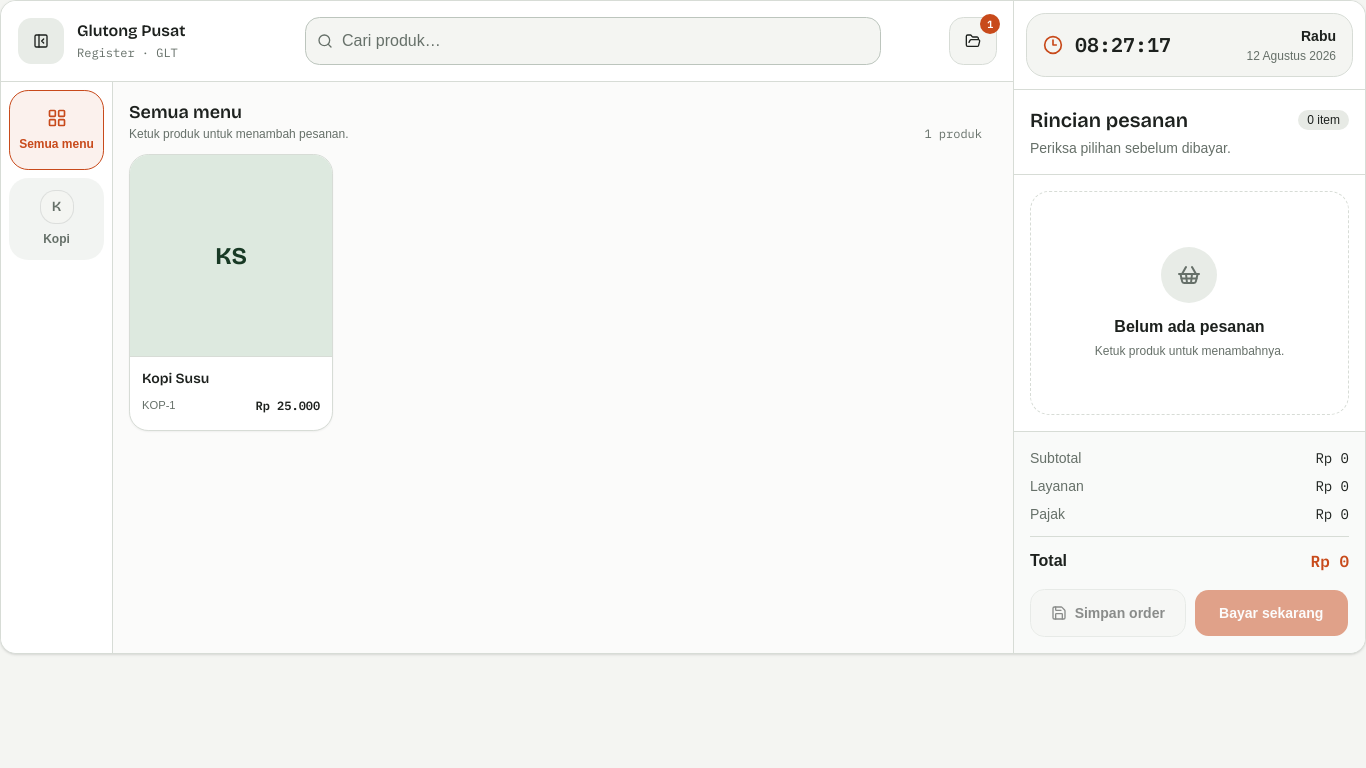
POS register layout › checks out a resumed dine-in order with its stored table
Click the button named "Buka pesanan tersimpan".
click(973, 41)  # box x1=949 y1=17 x2=997 y2=65
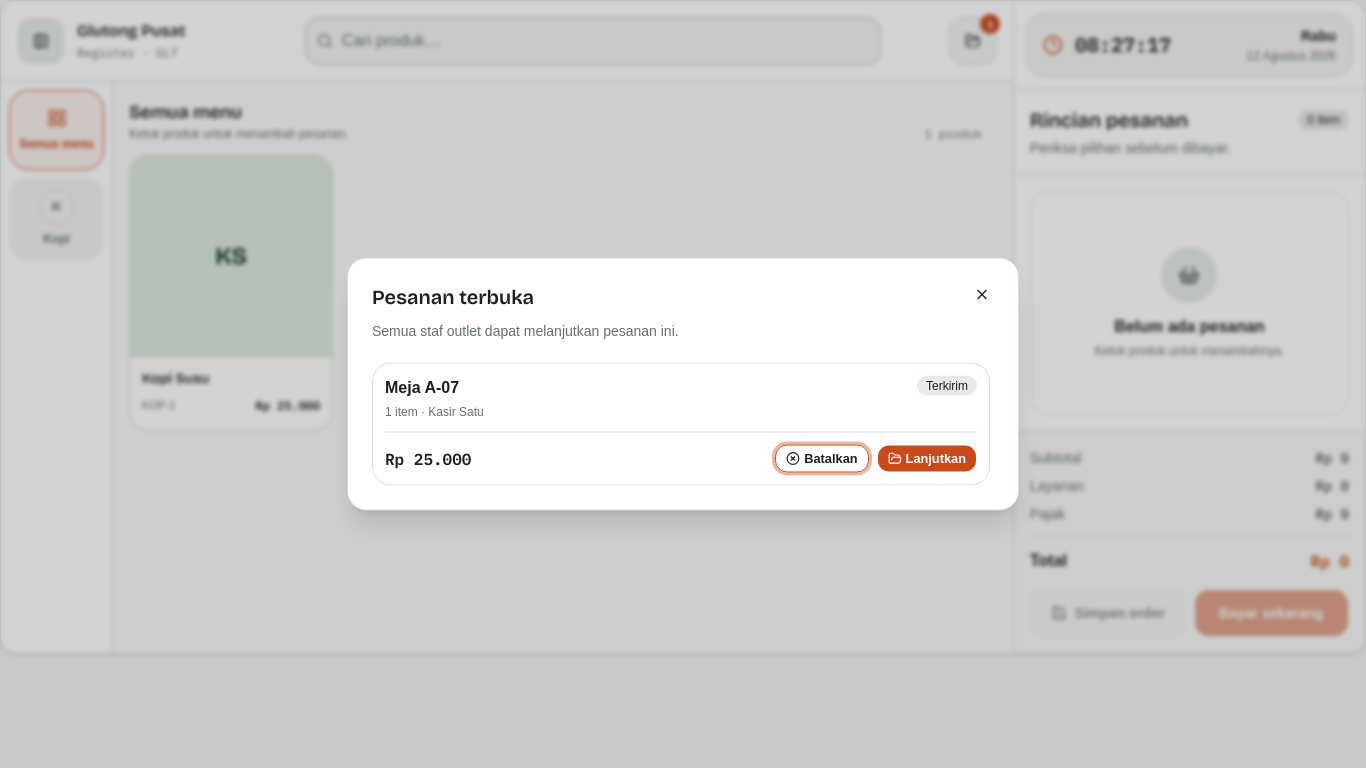
Click the button "Lanjutkan".
click(927, 458)  # box x1=877 y1=444 x2=977 y2=472
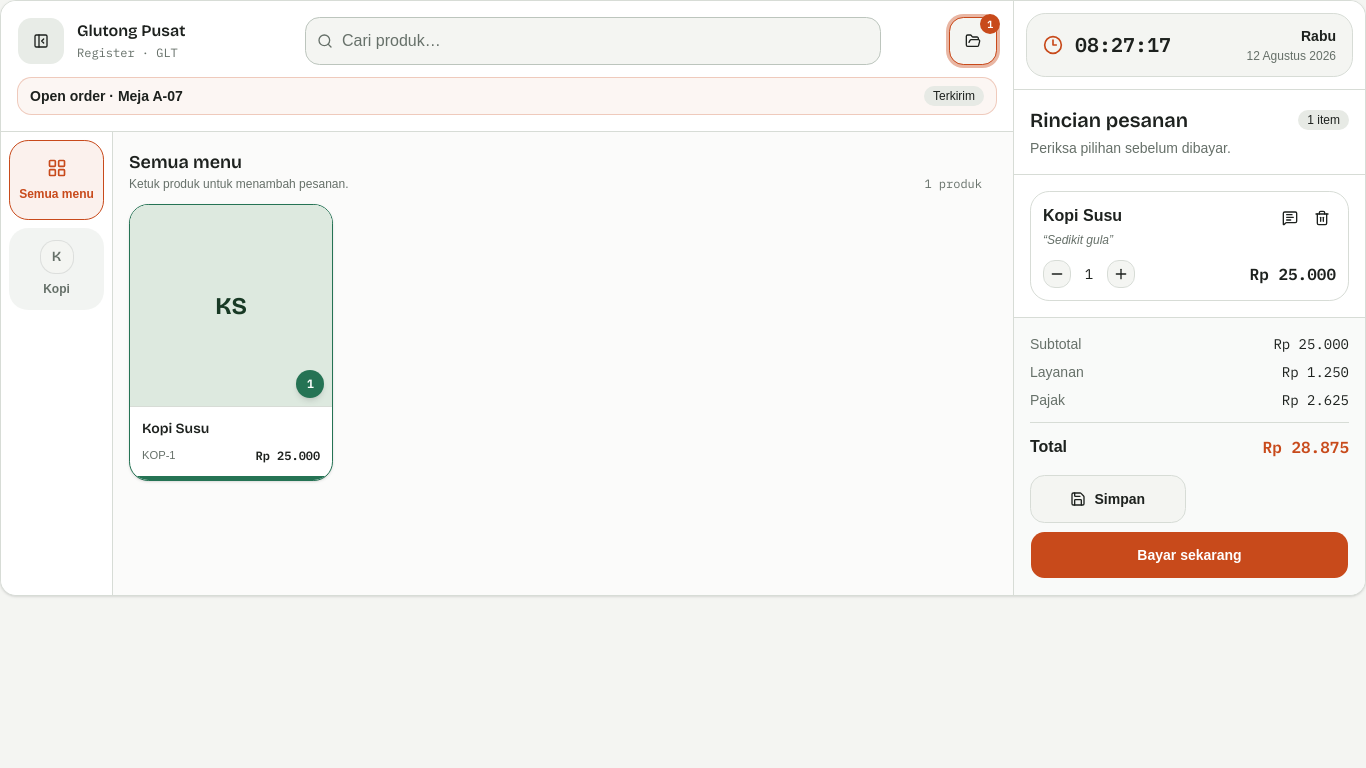
Click the button "Bayar sekarang".
click(1190, 555)  # box x1=1030 y1=531 x2=1349 y2=579
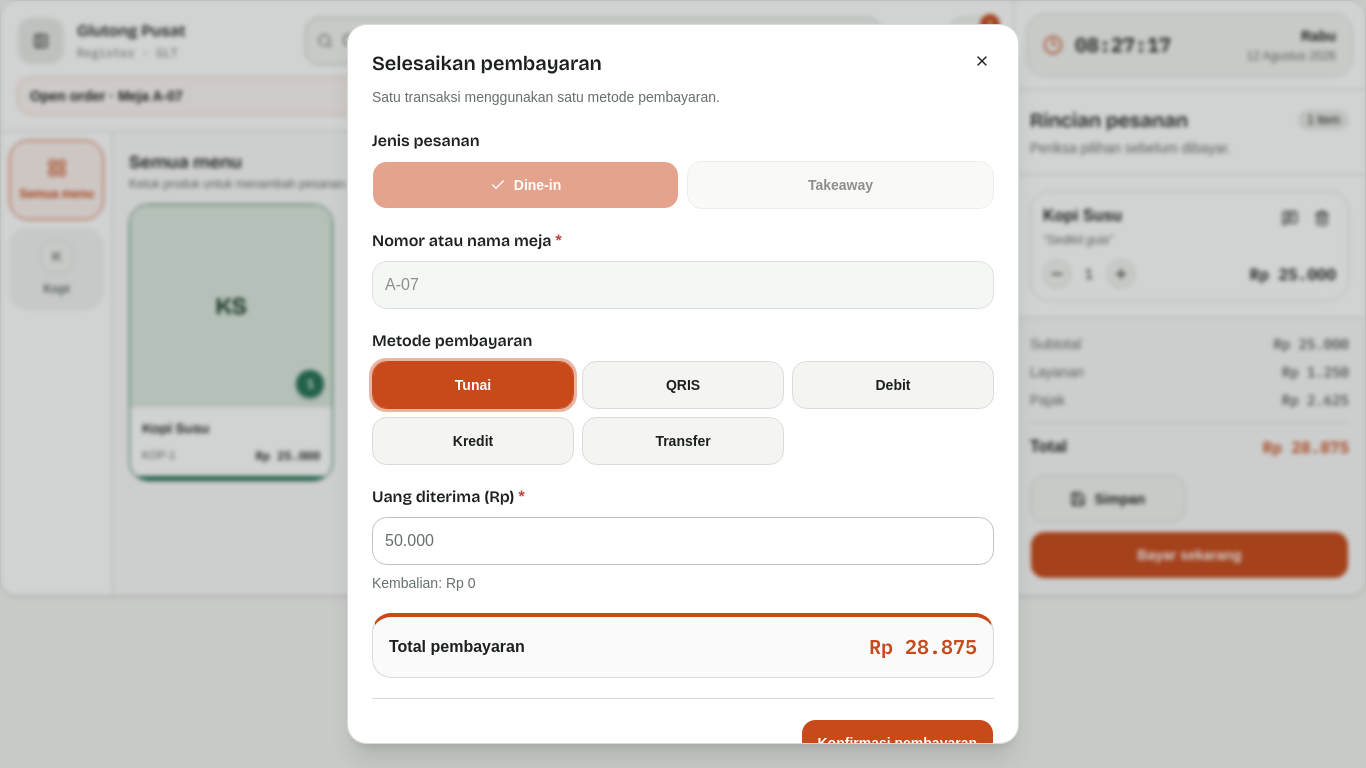
Now the field labelled "Nomor atau nama meja *" holds "A-07", box x1=372 y1=261 x2=994 y2=309
Click the button "QRIS".
click(683, 385)  # box x1=582 y1=361 x2=784 y2=409
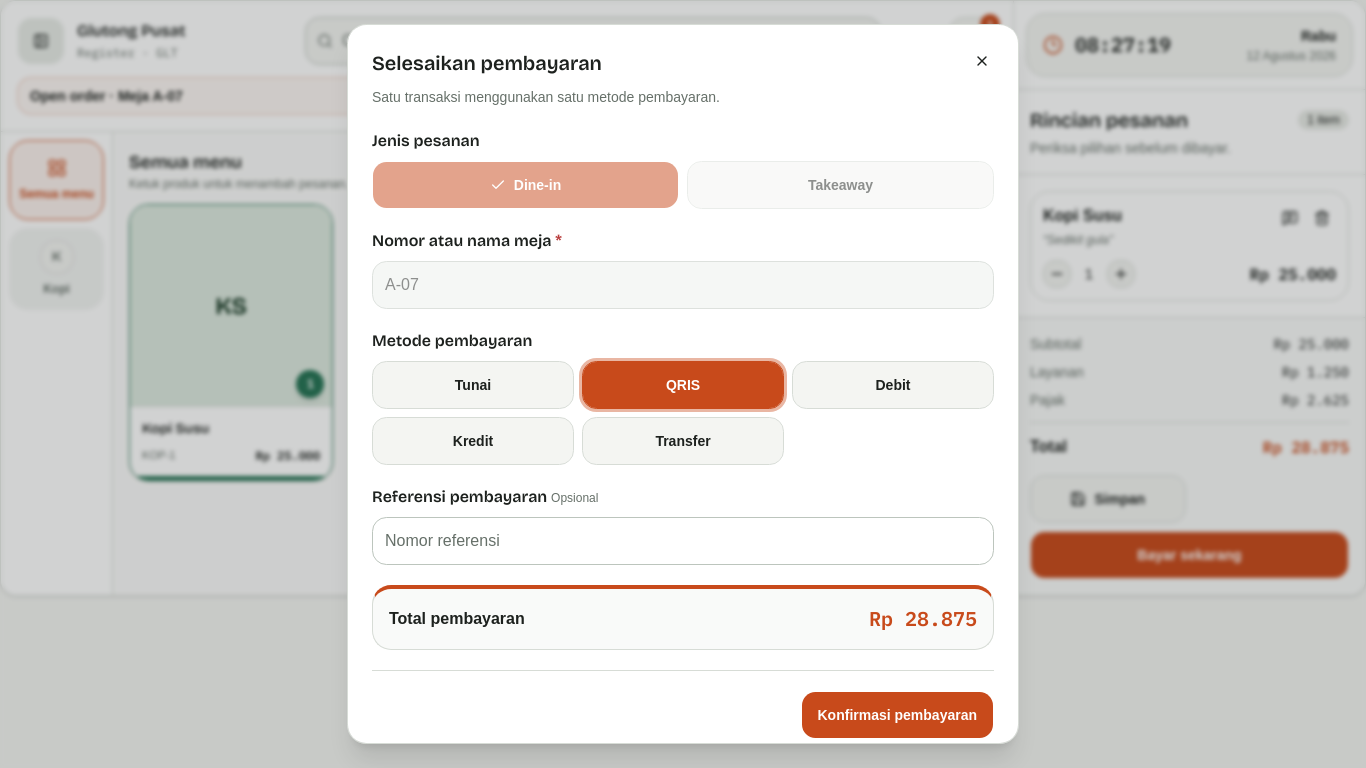
Click the button "Konfirmasi pembayaran".
click(897, 715)  # box x1=800 y1=691 x2=994 y2=739
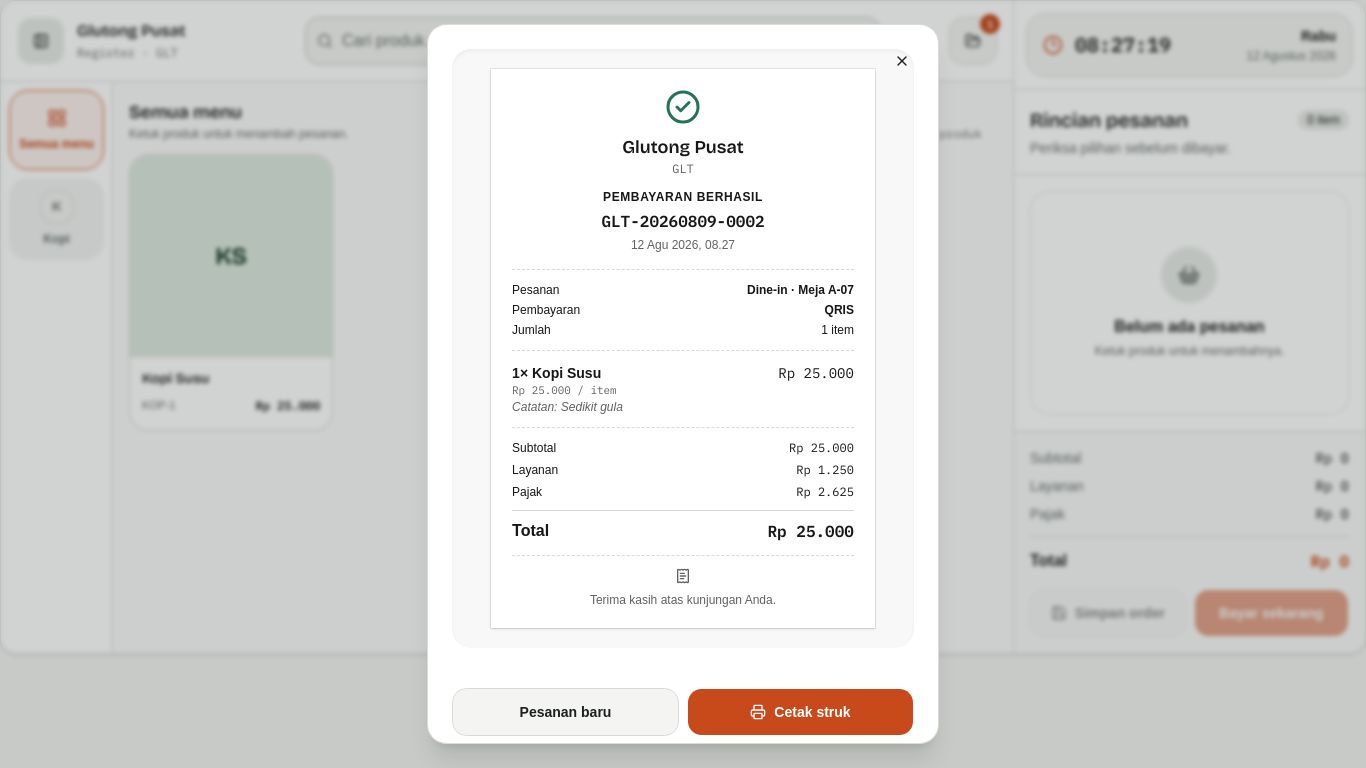
Now the text "Pembayaran berhasil" is shown, box x1=603 y1=190 x2=763 y2=204
